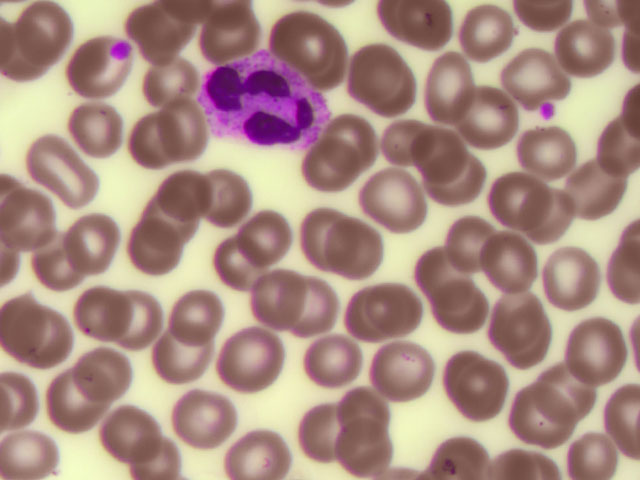Platelets: (533, 103, 560, 122), (110, 42, 127, 56)
RBC: (337, 420, 395, 480), (567, 420, 625, 480), (422, 420, 480, 480), (16, 2, 74, 61), (50, 92, 108, 151), (66, 40, 124, 99), (64, 38, 122, 97), (27, 142, 85, 201), (28, 228, 86, 287), (79, 206, 137, 265), (79, 292, 137, 351), (113, 296, 171, 355), (77, 349, 135, 408), (44, 382, 102, 441), (13, 283, 71, 342), (100, 412, 158, 471), (178, 400, 236, 459), (151, 330, 209, 389), (168, 293, 226, 352), (225, 339, 283, 398), (243, 283, 301, 342), (274, 280, 332, 339), (221, 230, 279, 289), (235, 211, 293, 270), (194, 167, 252, 226), (163, 165, 221, 224), (136, 203, 194, 262), (120, 216, 178, 275), (120, 111, 178, 170), (140, 100, 198, 159), (137, 53, 195, 112), (129, 7, 187, 66), (195, 3, 253, 62), (275, 9, 333, 68), (342, 40, 400, 99), (375, 80, 433, 139), (317, 109, 375, 168), (301, 138, 359, 197), (361, 182, 419, 241), (323, 235, 381, 294), (300, 208, 358, 267), (353, 277, 411, 336), (330, 296, 388, 355), (299, 333, 357, 392), (287, 398, 345, 457), (338, 381, 396, 440), (379, 336, 437, 395), (417, 288, 475, 347), (407, 245, 465, 304), (441, 216, 499, 275), (478, 229, 536, 288), (486, 182, 544, 241), (527, 187, 585, 246), (518, 112, 576, 171), (426, 152, 484, 211), (410, 123, 468, 182), (443, 100, 501, 159), (409, 54, 467, 113), (378, 95, 436, 154), (452, 12, 510, 71), (509, 46, 567, 105), (545, 25, 603, 84), (582, 109, 640, 168), (562, 166, 620, 225), (546, 248, 604, 307), (564, 308, 622, 367), (541, 356, 599, 415), (521, 382, 579, 441), (463, 359, 521, 418), (441, 324, 499, 383), (486, 284, 544, 343), (1, 420, 58, 480), (1, 201, 58, 260)
WBC: (193, 48, 330, 153)
